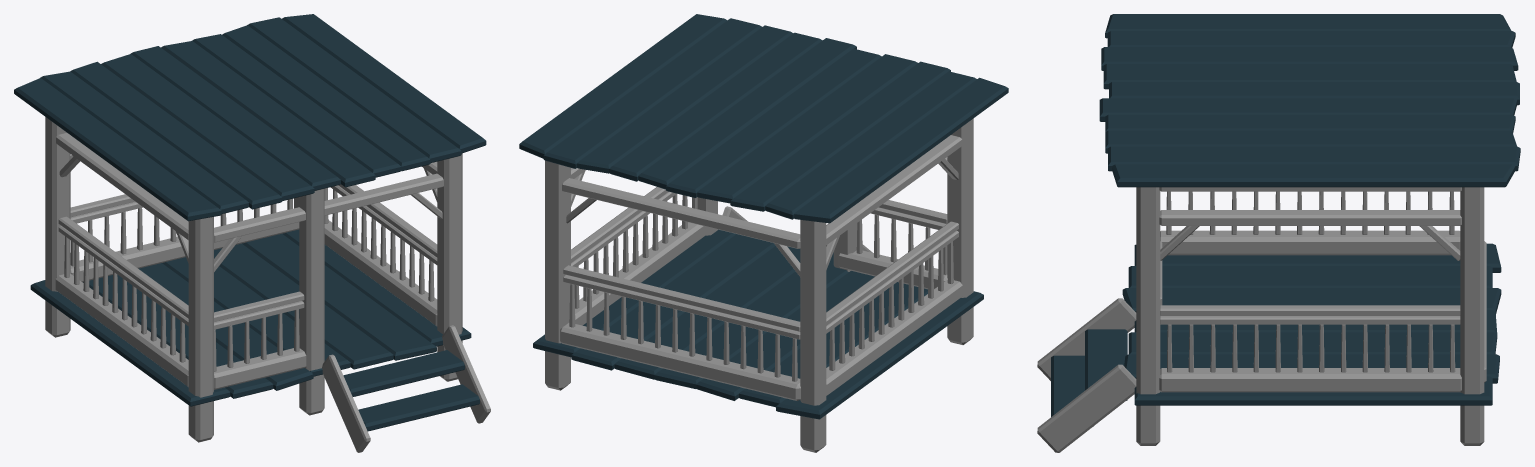
The model's file is farmstractures_07.glb.
3 views of the same model, side by side, from view 1: azimuth 30°, elevation 25°; view 2: azimuth 150°, elevation 25°; view 3: azimuth 270°, elevation 25° (orthographic). The views are drawn at different scales.
Visible parts, largest first — view 1: farmstractures_07; view 2: farmstractures_07; view 3: farmstractures_07.
Part boxes in pixels (left/top/right/bottom): farmstractures_07: left=14, top=14, right=490, bottom=452; farmstractures_07: left=519, top=14, right=1008, bottom=452; farmstractures_07: left=1037, top=14, right=1520, bottom=452.
Size of the model in its own units: 3.58 by 2.91 by 4.38.
1 material, 1 textured.
